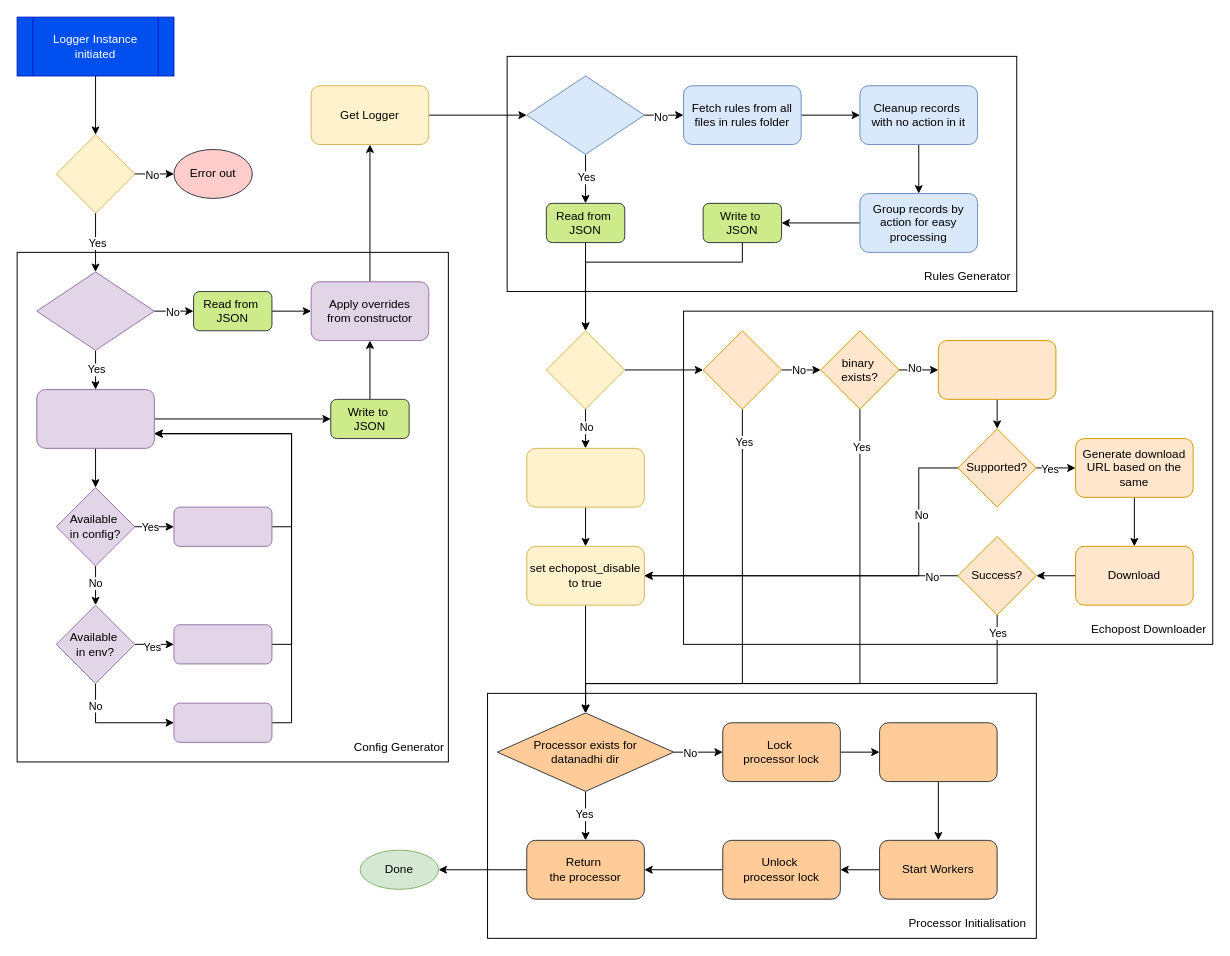
Image size: 1230x956. Some labels were removed from this diagram. The centre of each missing label's shape, as x and y in pixels:
API Key Present?: the point at 95,173
echopost disabled?: the point at 742,369
For each config entry: the point at 95,418
Get current system platform and os: the point at 996,369
Initialise queue: the point at 938,752
Mark no_rules_set to true: the point at 585,477
Pick from config: the point at 222,526
Pick from Default: the point at 222,722
Pick from Env: the point at 222,644
Resolved config present?: the point at 95,310
Resolved rules present?: the point at 585,114
Rules present?: the point at 585,369
